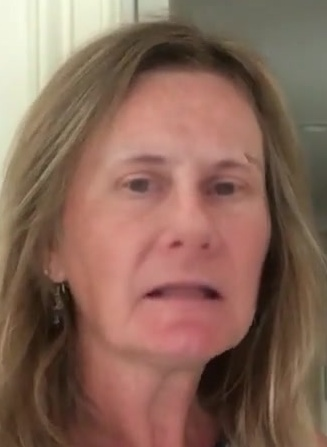eb_f: (101, 145, 265, 211)
